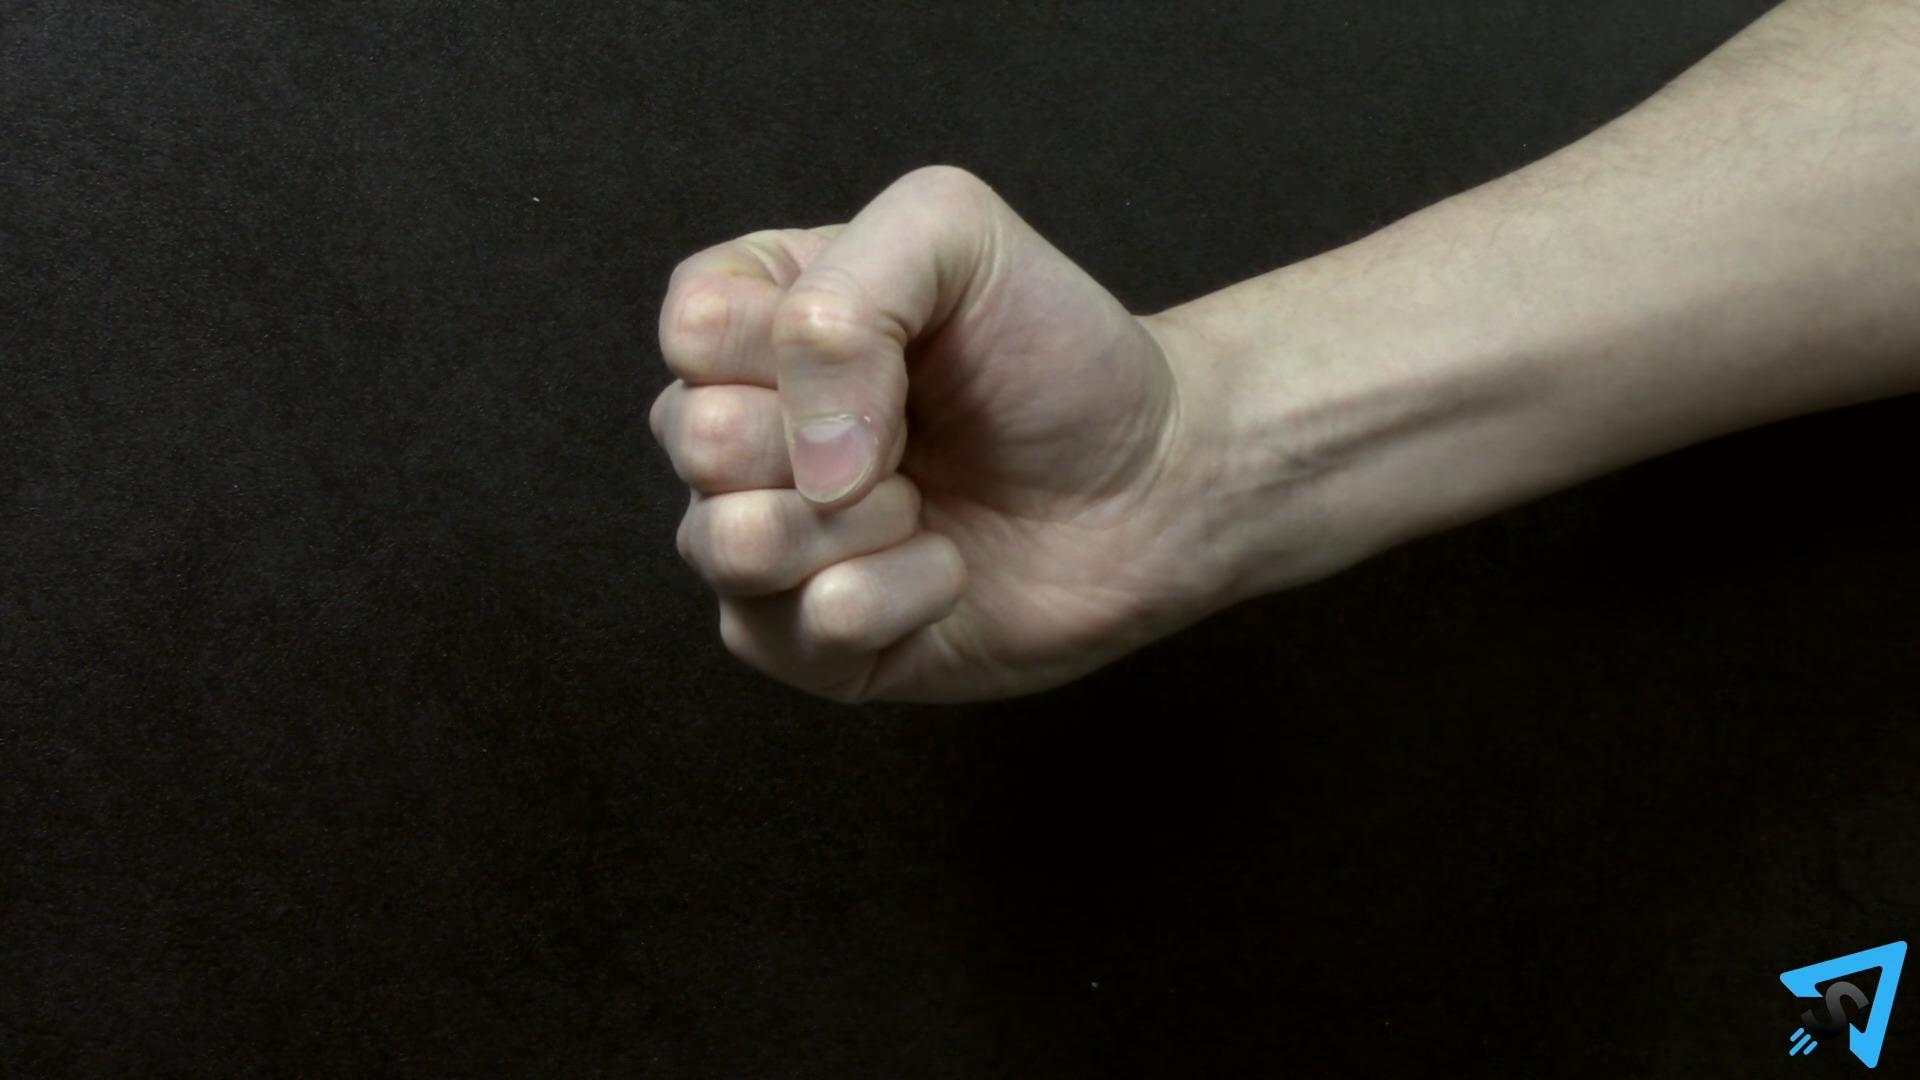Rock: (649, 160, 1188, 719)
